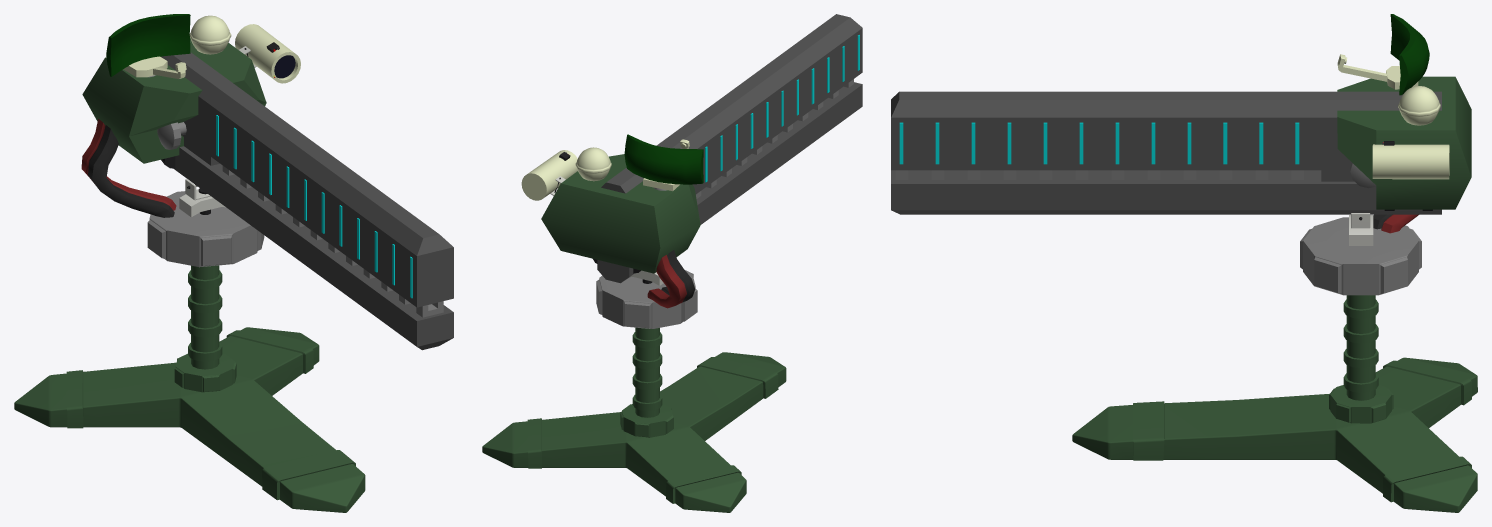
The model's file is Railgun.fbx.
3 views of the same model, side by side, from view 1: azimuth 30°, elevation 25°; view 2: azimuth 150°, elevation 25°; view 3: azimuth 270°, elevation 25° (orthographic). The views are drawn at different scales.
Parts seen in each view (by area): view 1: polySurface671, polySurface667; view 2: polySurface671, polySurface667; view 3: polySurface671, polySurface667.
Boxes of the visible parts, x1,y1,x2,y2 form: polySurface671: (81, 14, 453, 350); polySurface667: (14, 265, 365, 512); polySurface671: (521, 14, 862, 328); polySurface667: (482, 327, 786, 512); polySurface671: (891, 14, 1471, 295); polySurface667: (1072, 295, 1477, 512).
Bounding box in the file's own units: 5.84 × 7.39 × 10.12.
